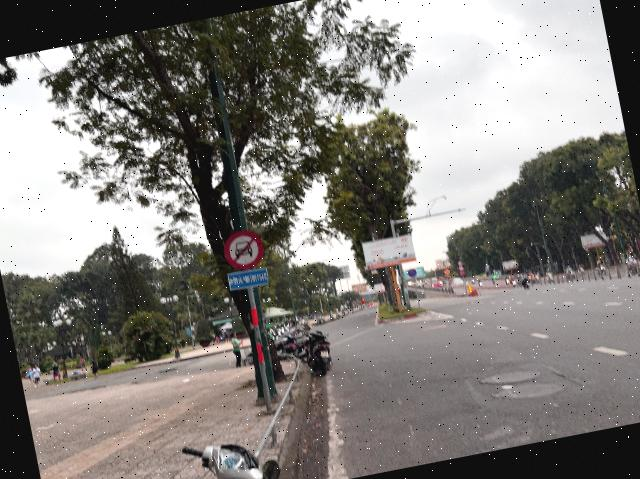cam-o-to: (220, 225, 266, 272)
